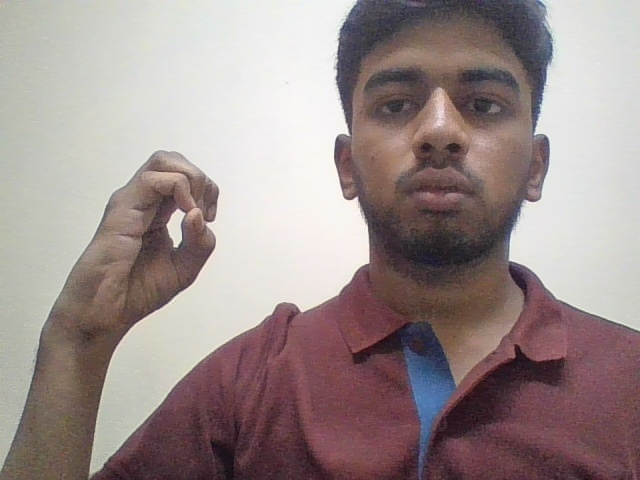O: (49, 141, 238, 346)
